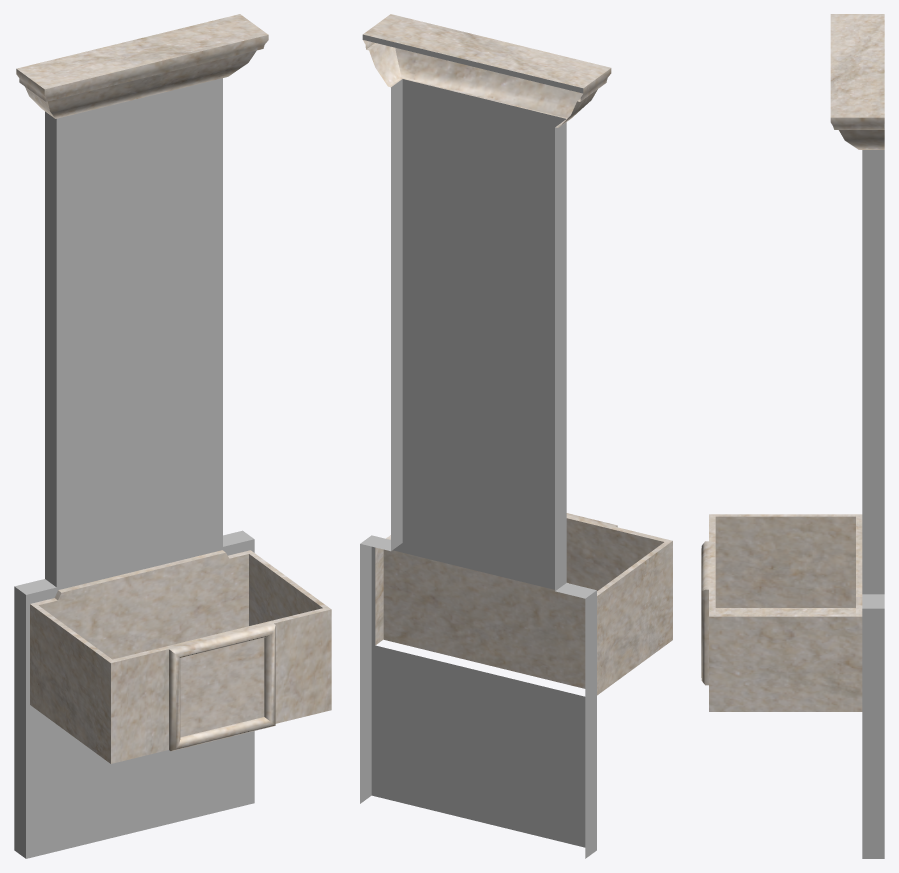
File: LavaboTerrazzo.fbx
3 views of the same model, side by side, from view 1: azimuth 30°, elevation 25°; view 2: azimuth 150°, elevation 25°; view 3: azimuth 270°, elevation 25° (orthographic). The views are drawn at different scales.
Visible parts, largest first — view 1: LavaboTerrazzo; view 2: LavaboTerrazzo; view 3: LavaboTerrazzo.
Boxes of the visible parts, x1,y1,x2,y2 form: LavaboTerrazzo: [14, 14, 331, 858]; LavaboTerrazzo: [360, 14, 672, 858]; LavaboTerrazzo: [701, 14, 884, 858].
Bounding box in the file's own units: 71.4 × 233 × 52.35.
